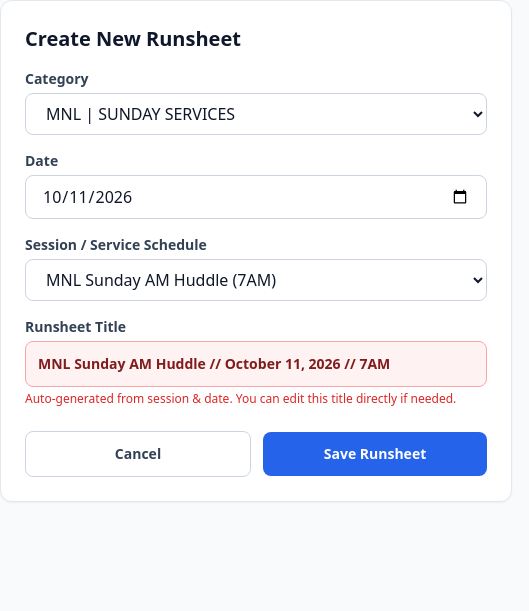
CreateRunsheetForm batch operations › Date-wide batch checkbox › hides the date-wide checkbox when the selected service has no other session that date
Select "MNL Sunday AM Huddle (7AM)" in the dropdown labelled "Session / Service Schedule" at (256, 280), box [25, 259, 487, 301]
Select "MNL Crowne 3PM (3PM)" in the dropdown labelled "Session / Service Schedule" at (256, 280), box [25, 259, 487, 301]
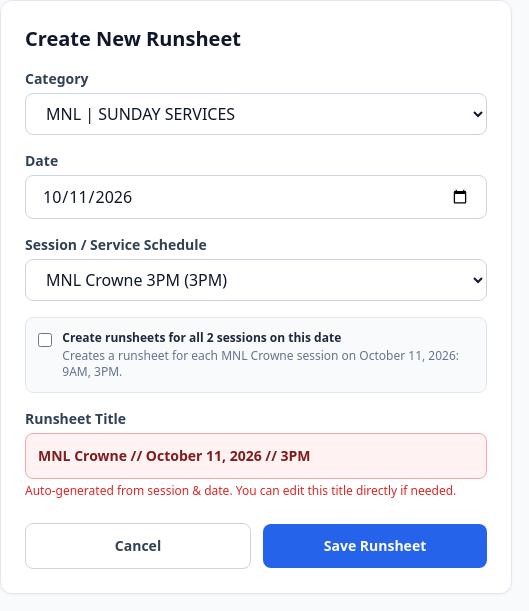
Expected: the checkbox labelled "Create runsheets for all 2 sessions on this date" is shown, [38, 332, 52, 348]
